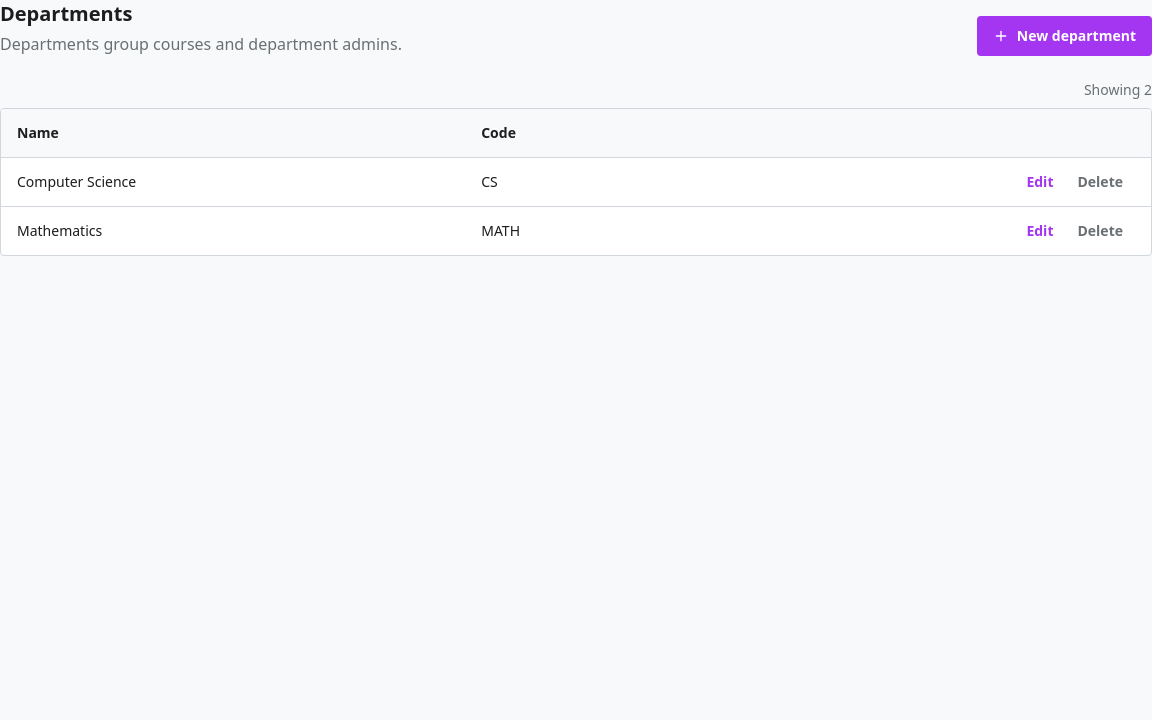
it: creates a department, uppercases the code, and refreshes the list
This screenshot has width=1152, height=720.
Expected: the text "Computer Science" is shown, [1,158,465,206]
Click the button "New department" at (1064, 36), box [977,16,1151,56]
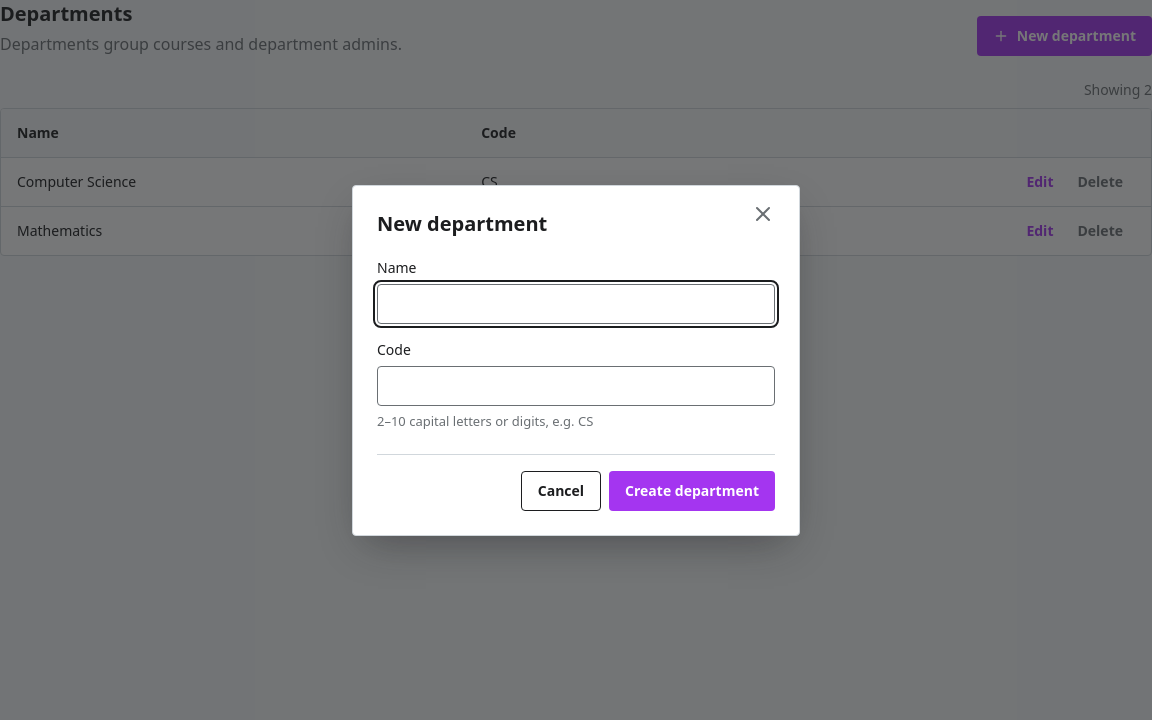
Type "Physics" into the field labelled "Name" at (576, 304), box [377,284,775,324]
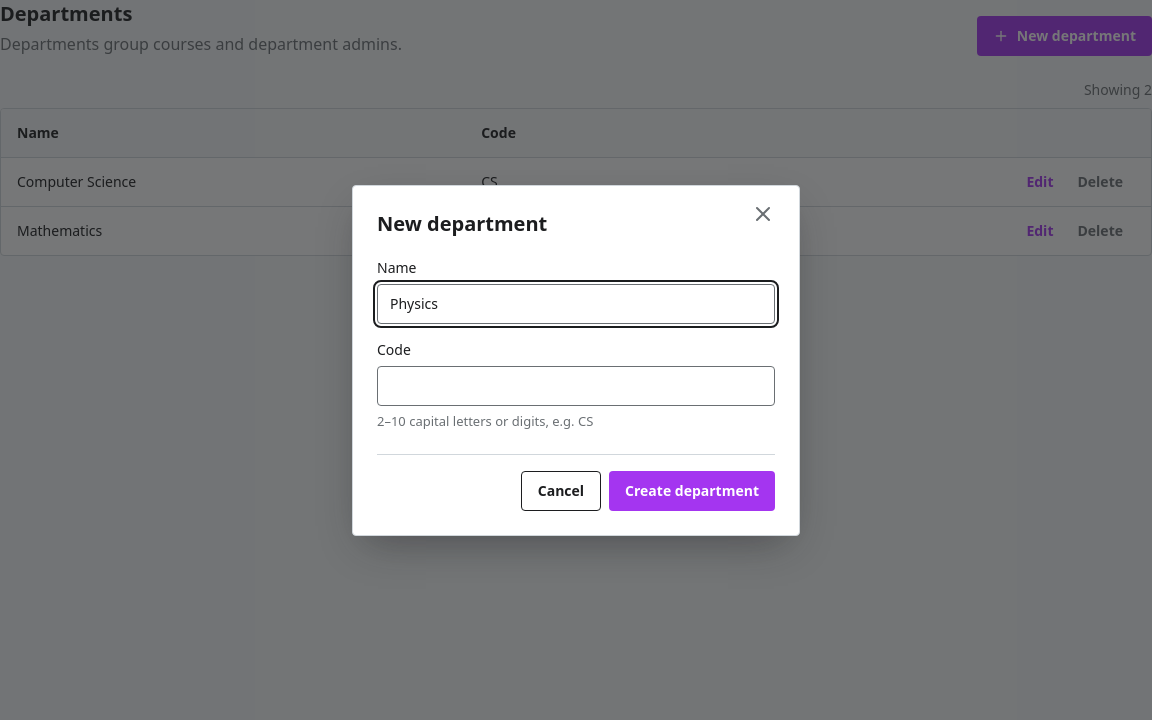
Type "phys" into the field labelled "Code" at (576, 386), box [377,366,775,406]
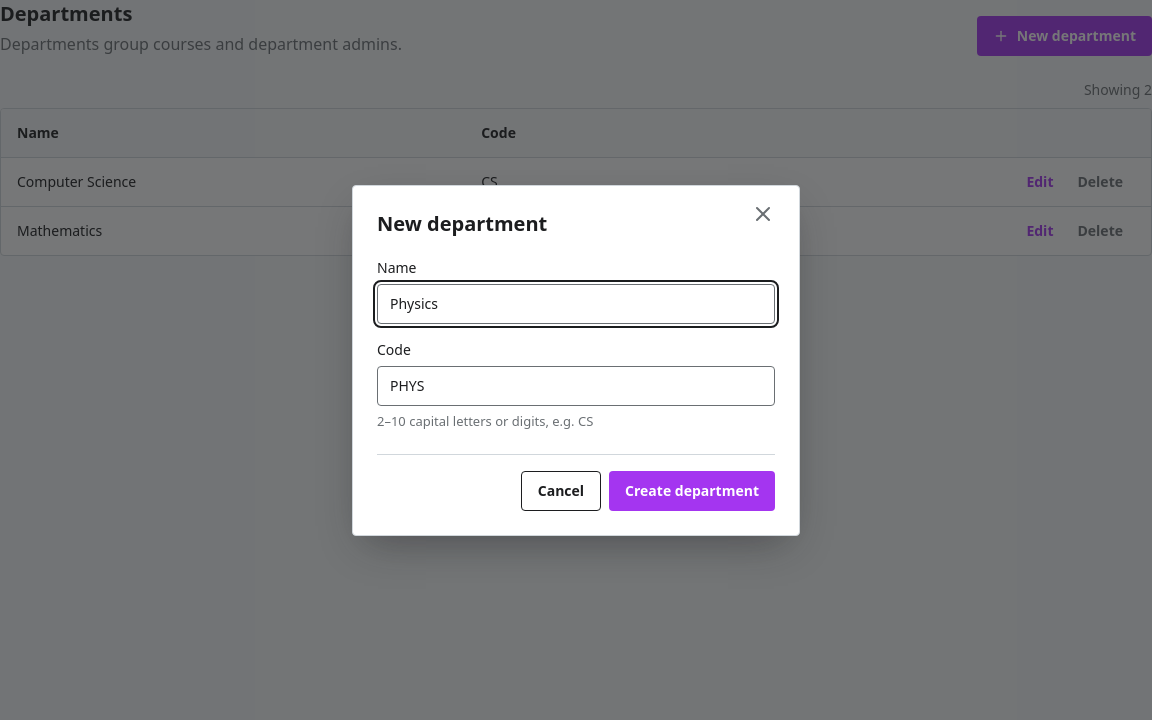
Click the button "Create department" at (692, 490), box [609,470,775,510]
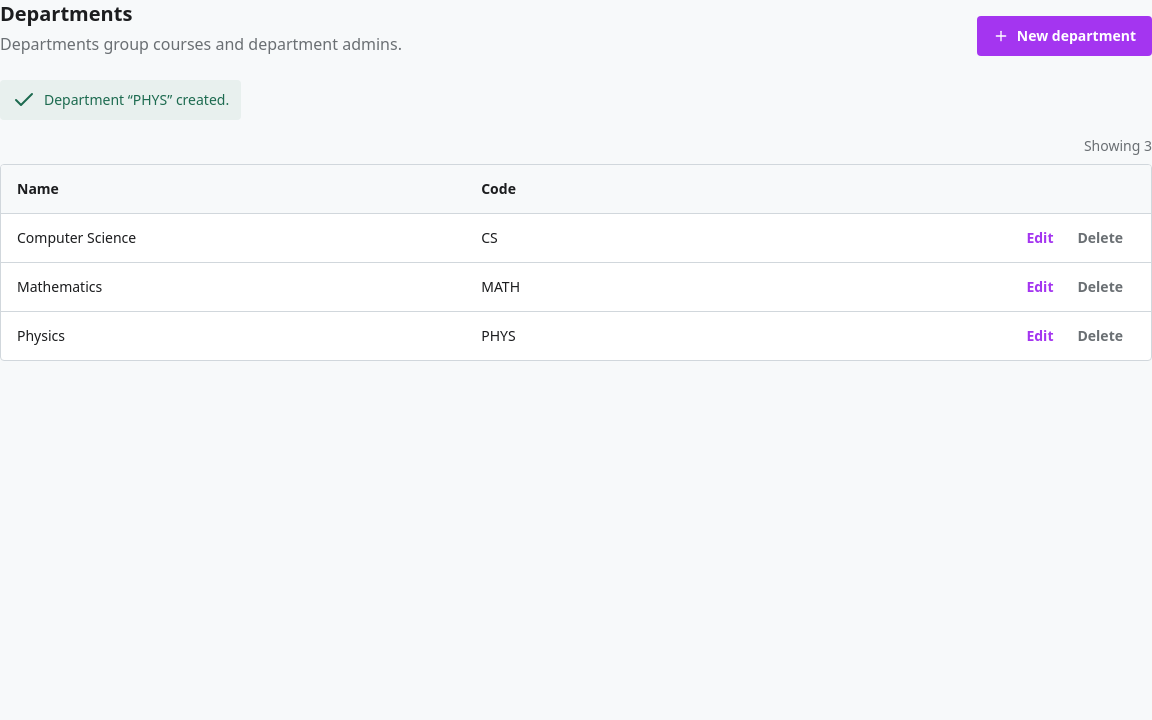
Result: the cell "Physics" is shown at [1,311,465,360]
Result: the text "Department “PHYS” created." is shown at [0,80,241,120]
